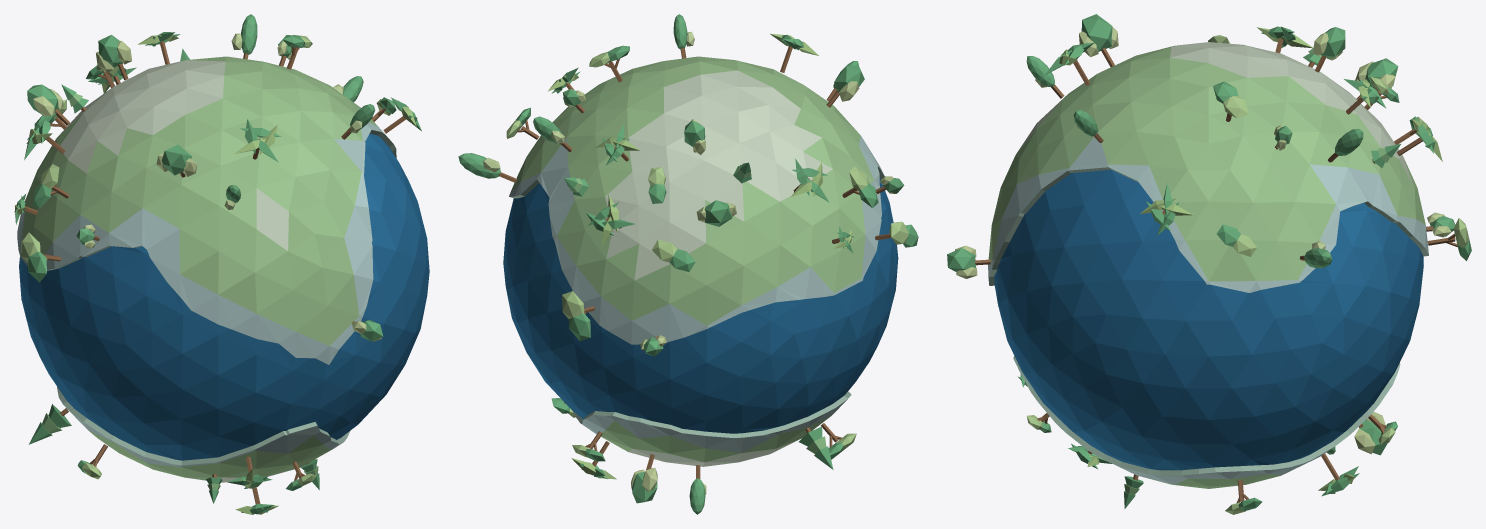
The model's file is earth-mobile.glb.
The picture shows the model from 3 angles, left to right: view 1: azimuth 30°, elevation 25°; view 2: azimuth 150°, elevation 25°; view 3: azimuth 270°, elevation 25°; orthographic projection. The views are drawn at different scales.
Visible parts, largest first — view 1: Terrain • modeled surfaces, Structures • modeled surfaces; view 2: Terrain • modeled surfaces, Structures • modeled surfaces; view 3: Terrain • modeled surfaces, Structures • modeled surfaces.
Part boxes in pixels (bbox=[...]): Terrain • modeled surfaces: bbox=[17, 56, 429, 482]; Structures • modeled surfaces: bbox=[14, 14, 421, 514]; Terrain • modeled surfaces: bbox=[503, 56, 898, 466]; Structures • modeled surfaces: bbox=[458, 14, 918, 514]; Terrain • modeled surfaces: bbox=[988, 42, 1428, 488]; Structures • modeled surfaces: bbox=[947, 14, 1471, 514].
Size of the model in its own units: 2.23 by 2.21 by 2.4.
